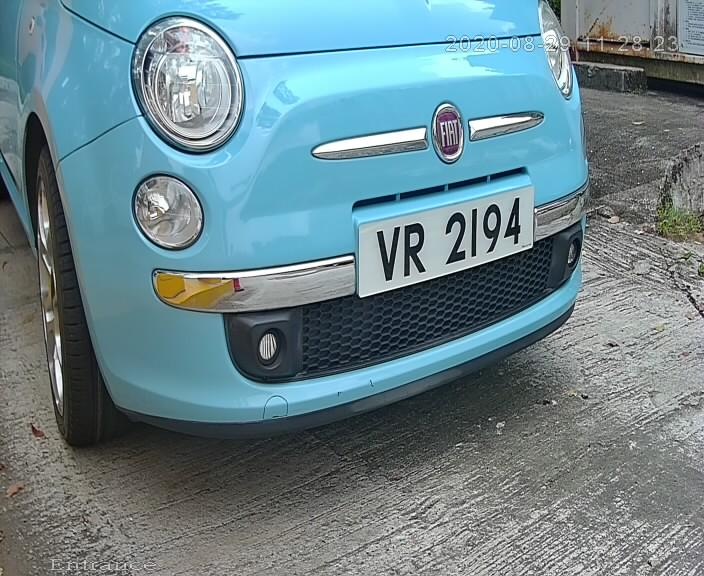License Plate: (329, 158, 548, 319)
